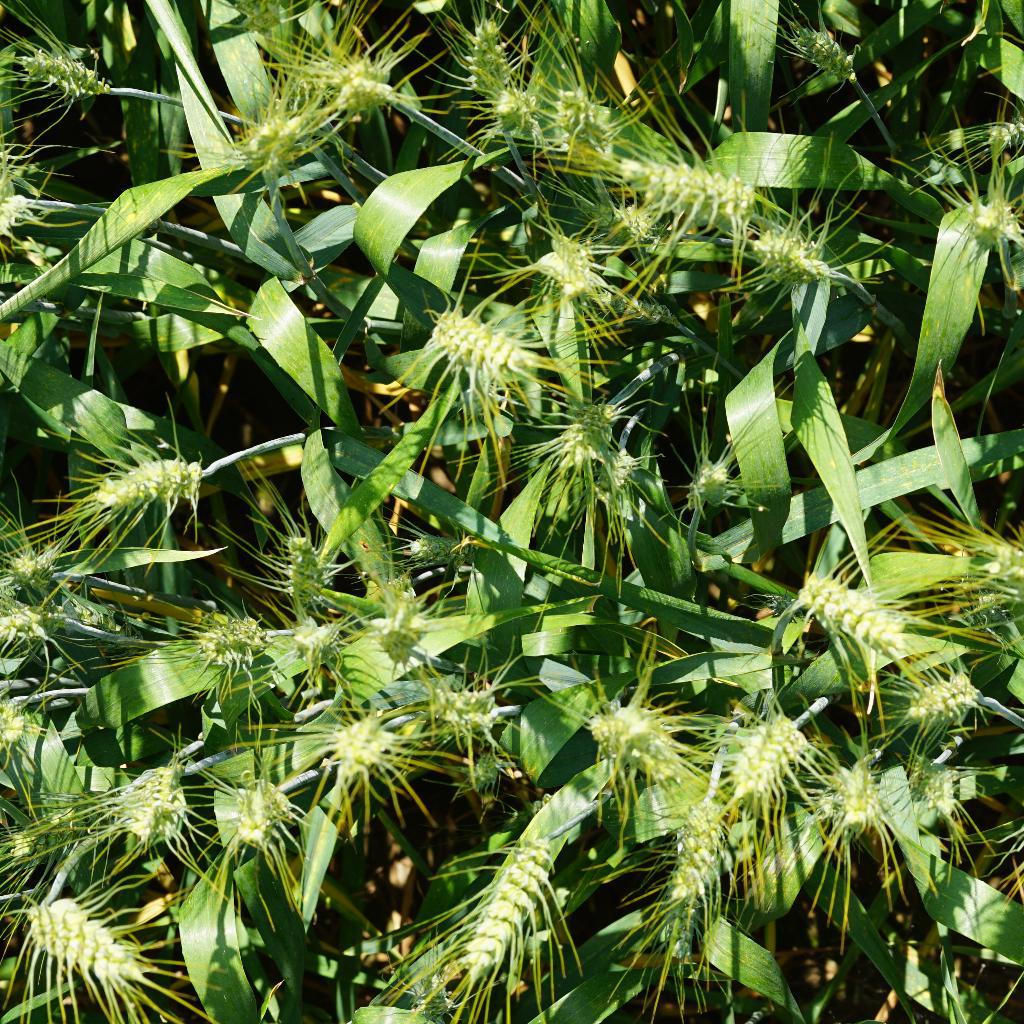0-0: (463, 800, 570, 996), (21, 881, 153, 998), (789, 567, 923, 658), (249, 46, 342, 161), (615, 146, 750, 224), (664, 773, 739, 909), (0, 30, 129, 108), (733, 699, 813, 811), (415, 299, 522, 380), (89, 449, 213, 515), (117, 746, 187, 849), (306, 49, 407, 118), (570, 194, 680, 257), (560, 395, 627, 497), (582, 694, 665, 776), (772, 7, 862, 82), (737, 220, 832, 291), (318, 709, 403, 787), (51, 584, 151, 650), (444, 14, 519, 101), (11, 789, 97, 863), (279, 526, 347, 619), (652, 861, 712, 965), (537, 238, 626, 307), (905, 664, 997, 725), (230, 776, 296, 860), (234, 97, 305, 175), (550, 75, 619, 153), (395, 520, 481, 579), (587, 285, 686, 336), (3, 530, 74, 600), (949, 187, 1024, 251), (195, 614, 270, 677), (946, 92, 1024, 152), (675, 464, 759, 518), (586, 441, 644, 518), (834, 750, 888, 830), (911, 758, 968, 832), (376, 598, 432, 673), (432, 679, 503, 737), (290, 616, 351, 681), (202, 0, 290, 45), (440, 381, 521, 426), (983, 538, 1024, 626), (400, 963, 458, 1024), (0, 603, 62, 658), (493, 83, 539, 156), (458, 746, 514, 797), (752, 584, 808, 626), (0, 698, 36, 751), (373, 569, 417, 602)
